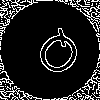Q: (25, 25, 87, 88)
